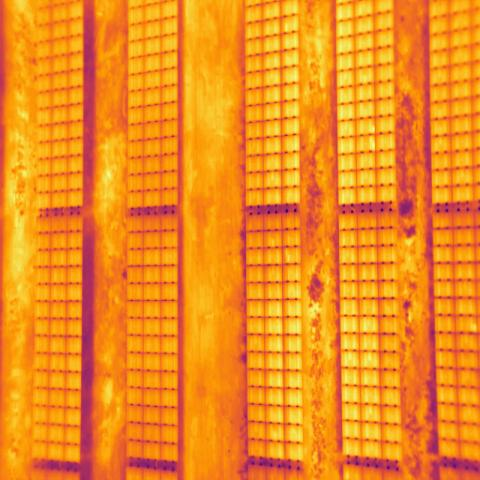fault: (455, 314, 476, 332), (356, 135, 376, 152)
